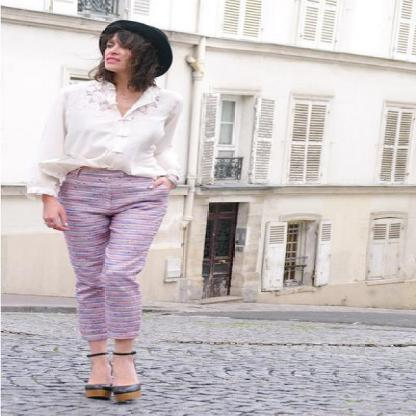hat: (102, 20, 172, 74)
pants: (42, 166, 166, 340)
shirt: (24, 78, 215, 196)
shoe: (87, 386, 131, 404)
